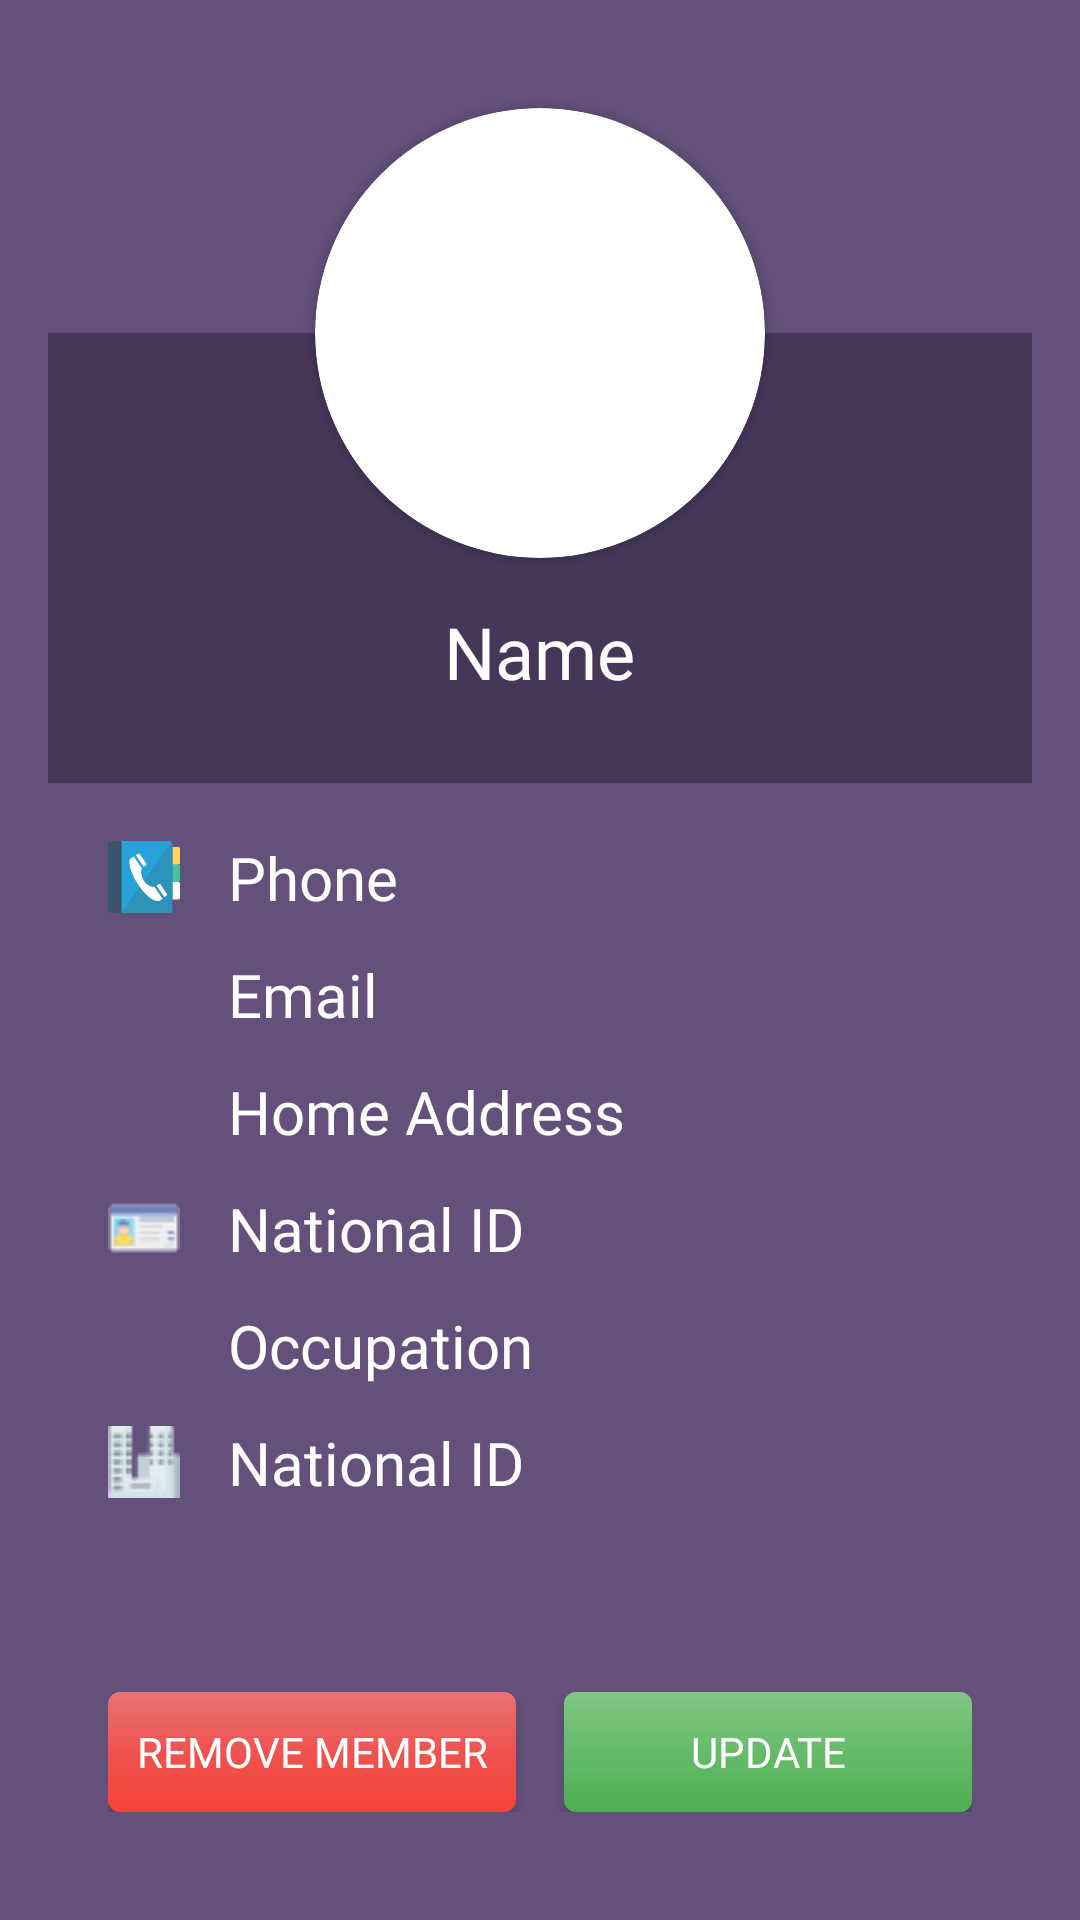

Named icons in this screenshot (1080px×1920px) and their bounding boxes, (x1, y1, x2, y2):
Organisation: (108, 1426, 180, 1498)
